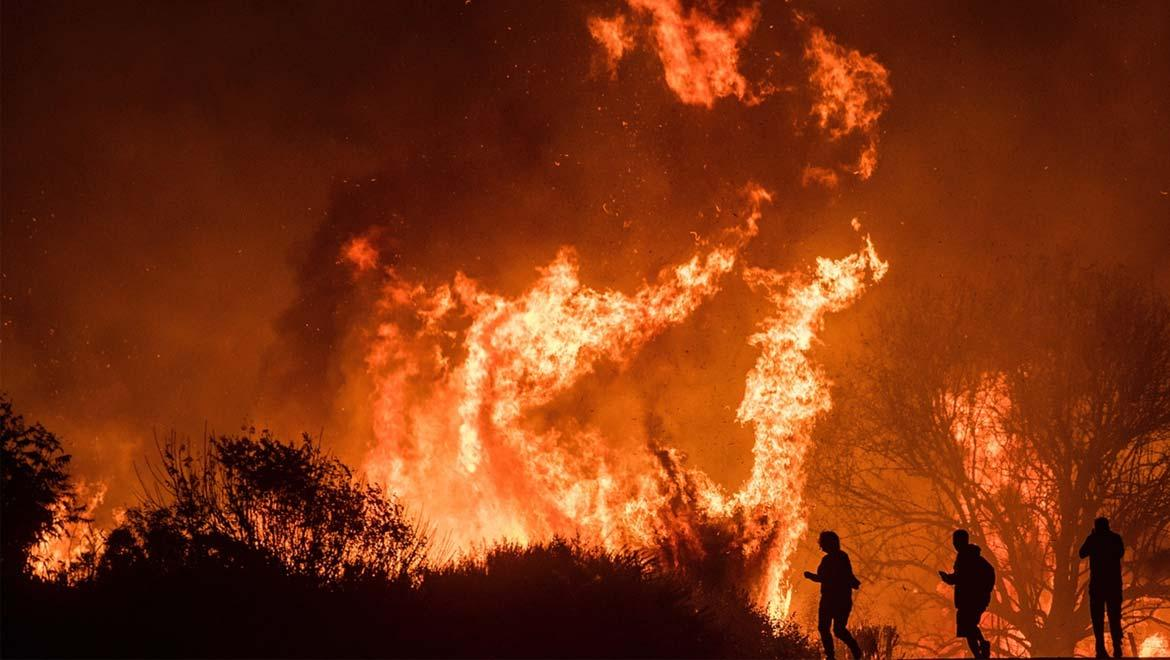Fire: (335, 21, 1068, 625)
